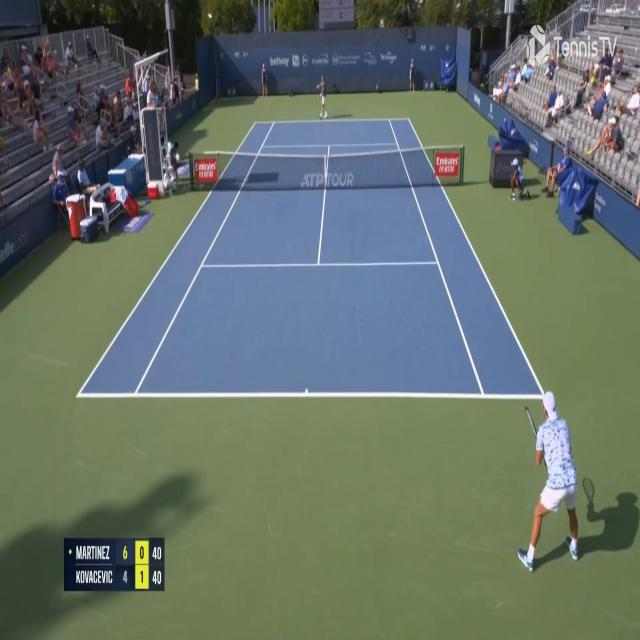tennis-player: (518, 379, 595, 572), (315, 74, 330, 120)
